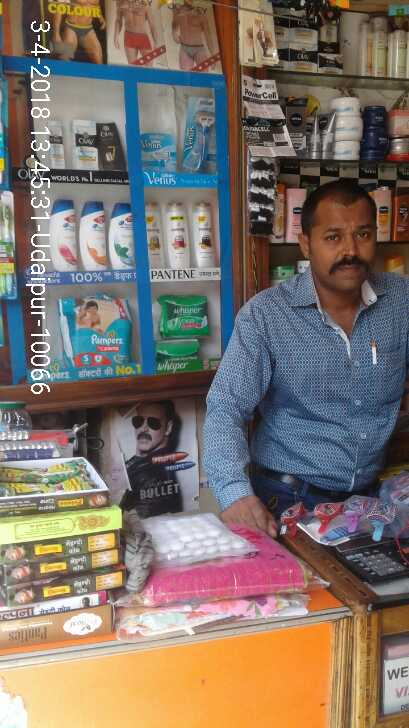venus: (176, 96, 220, 176), (144, 131, 172, 175)
